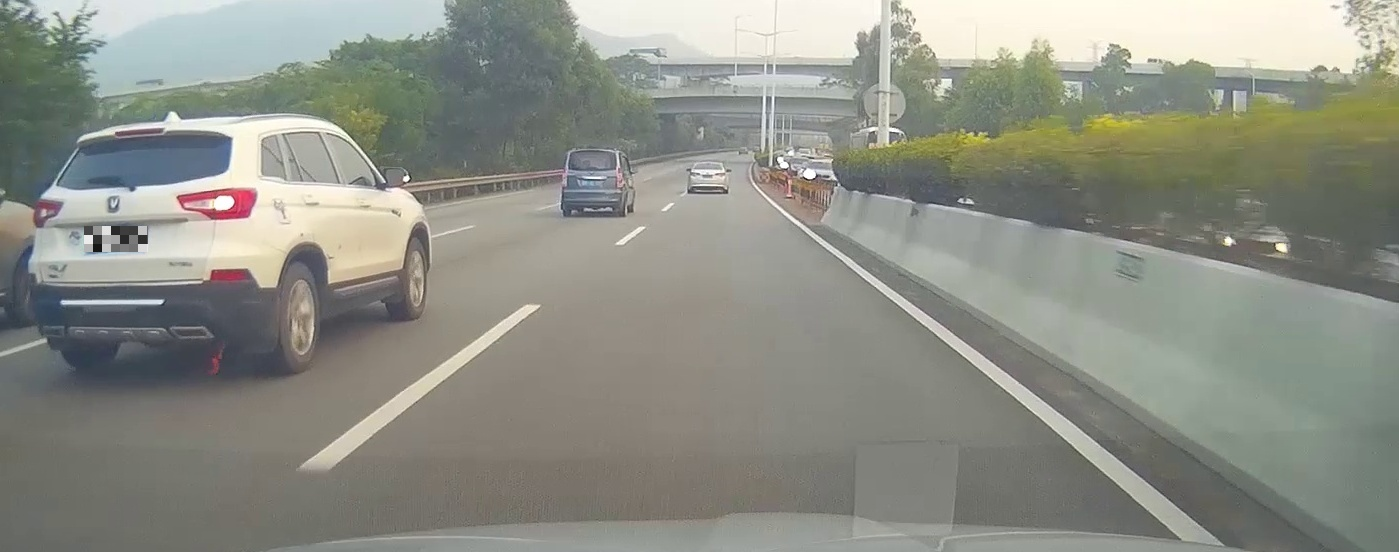L_light: (32, 198, 64, 228), (562, 166, 568, 187), (690, 172, 700, 175)
R_light: (176, 187, 257, 221), (616, 167, 623, 187), (715, 172, 725, 176)
T_light: (114, 127, 165, 138), (586, 166, 599, 170), (705, 164, 712, 166)
day-no: (560, 148, 625, 216), (687, 161, 729, 194)
day-right: (25, 119, 263, 372)
plate_1: (84, 226, 148, 252)
